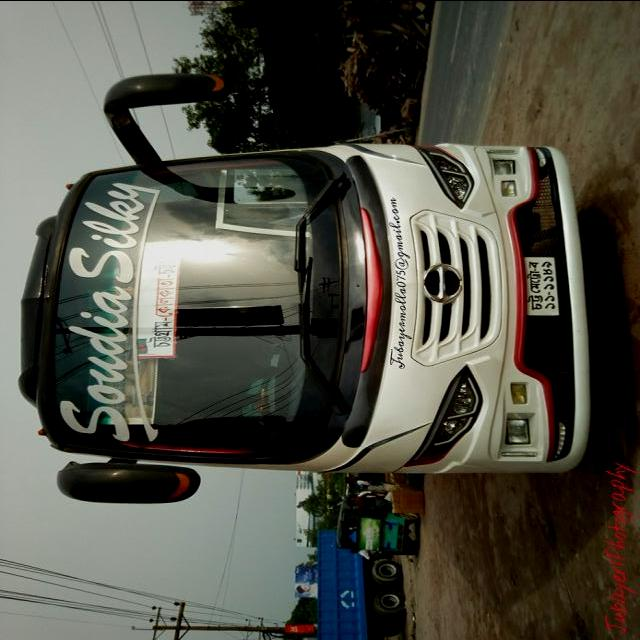bus: (13, 71, 590, 505)
